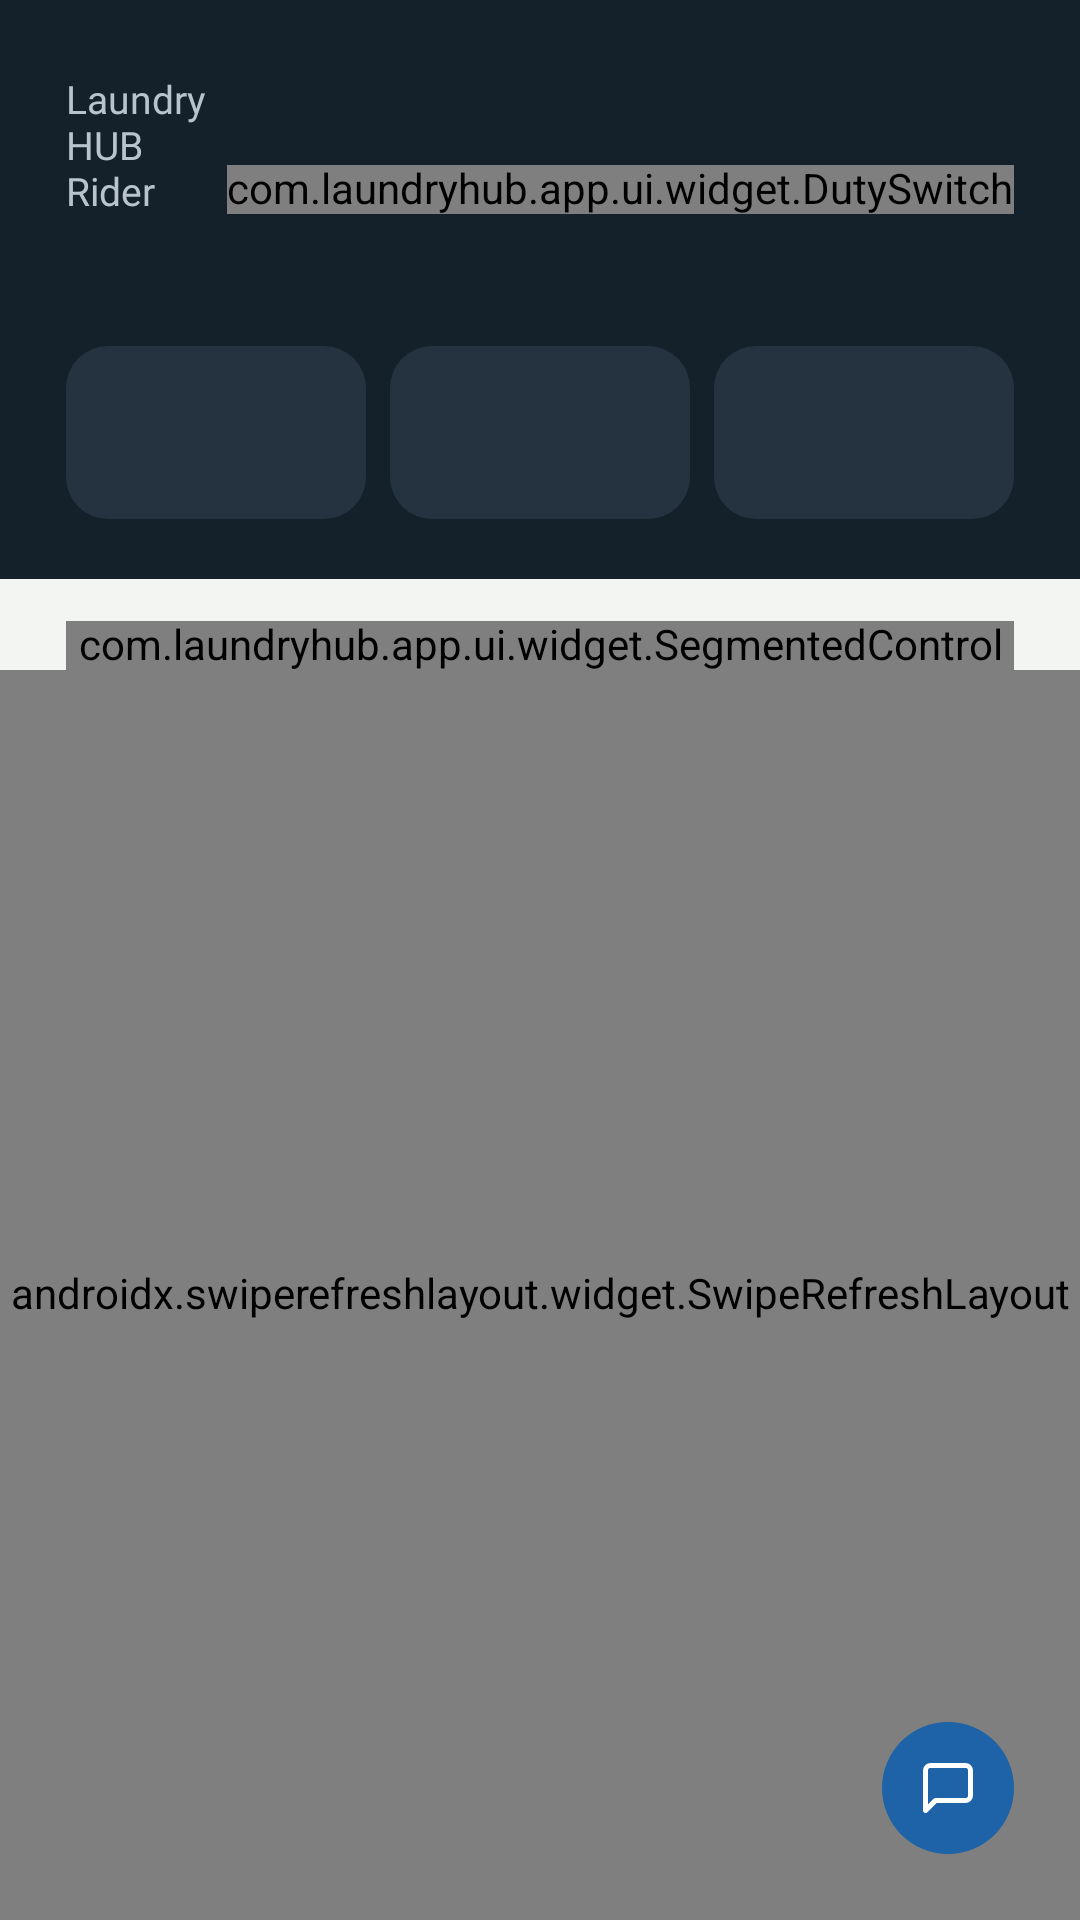

Icon click points for this 1080*1920 phone screenshot, format point (x, y):
Feedback chat: point (948, 1788)
